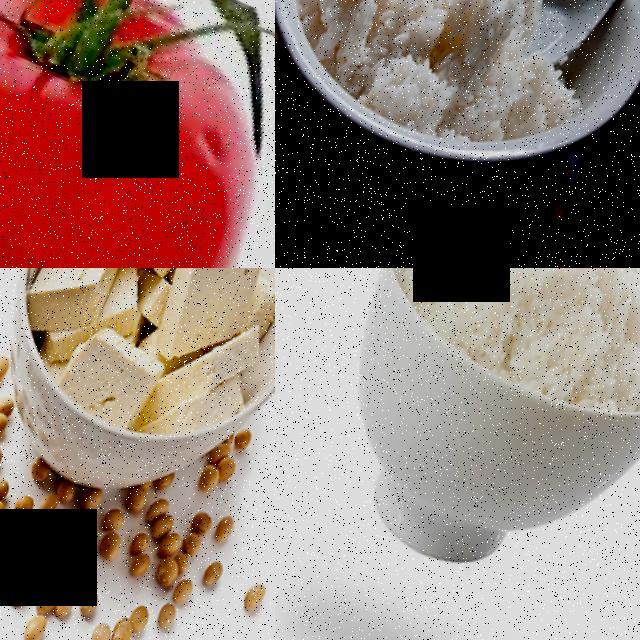tofu: (132, 268, 275, 393), (50, 318, 170, 442), (16, 268, 140, 351)
tomato: (0, 0, 275, 268)
white rice: (275, 0, 576, 170), (407, 268, 640, 459)
